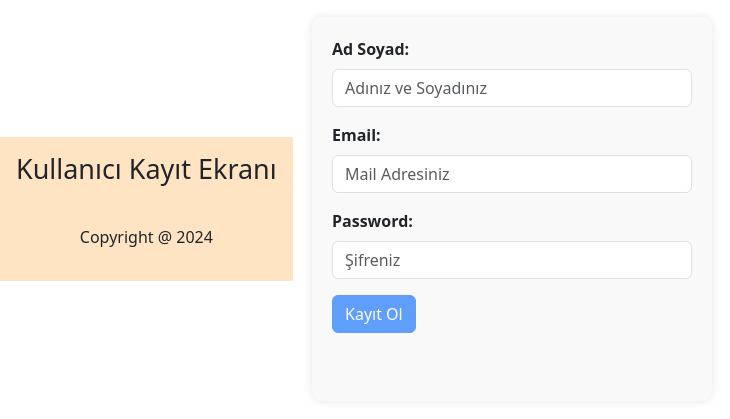
Test case: Hata Mesajlarının Testi › Şifre uzunluğu hatası görüntülenmeli
Type "123" into the password field with id "examplePassword" at (512, 260), box [332,241,692,279]
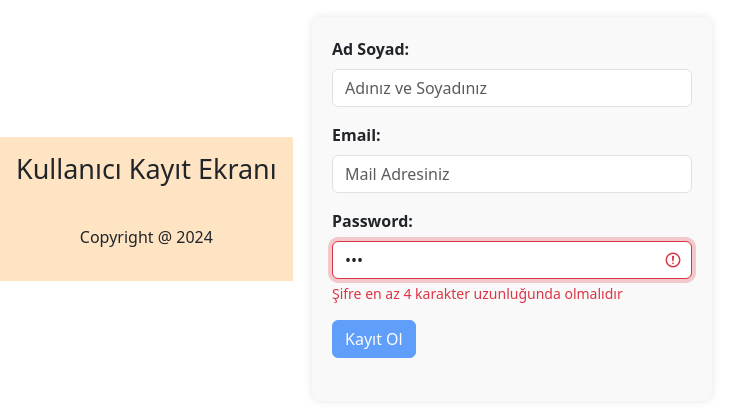
Result: the text "Şifre en az 4 karakter uzunluğunda olmalıdır" is shown at [332,284,623,303]
